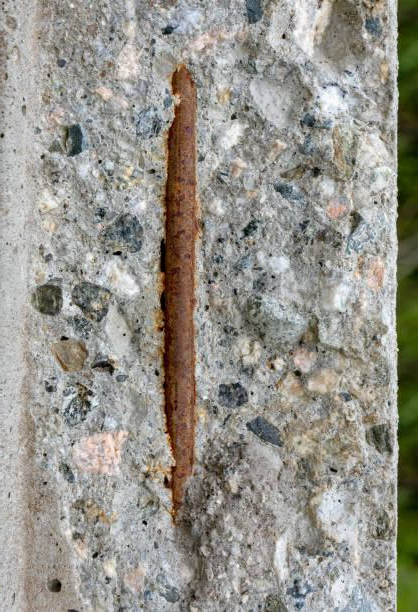Exposed reinforcement: (162, 64, 198, 527)
Spalling: (21, 1, 397, 612)
